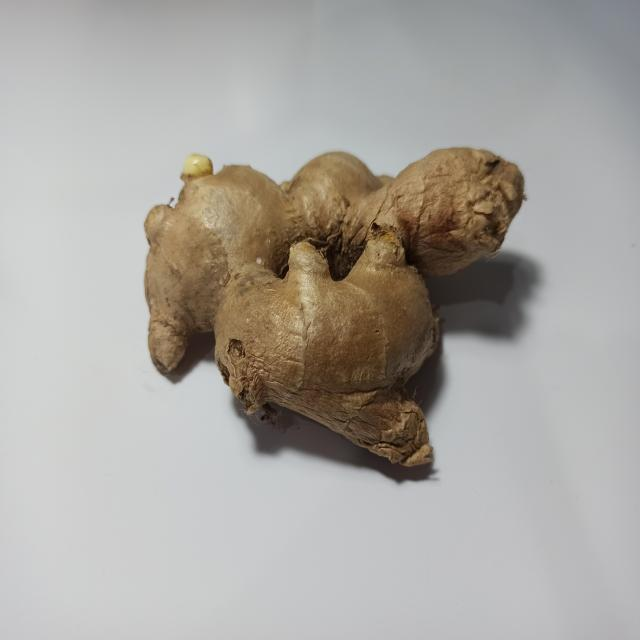ginger: (144, 148, 520, 458)
